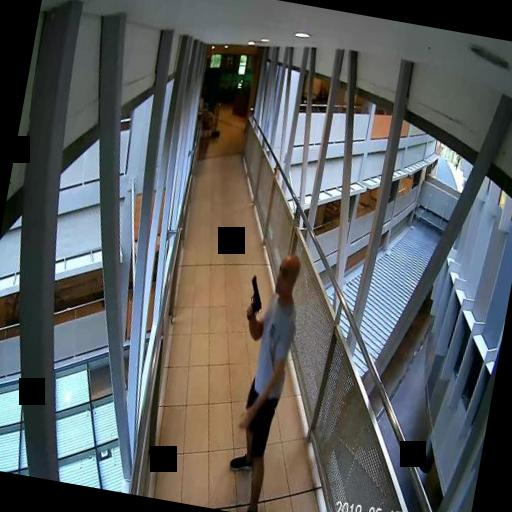Handgun: (244, 272, 265, 320)
